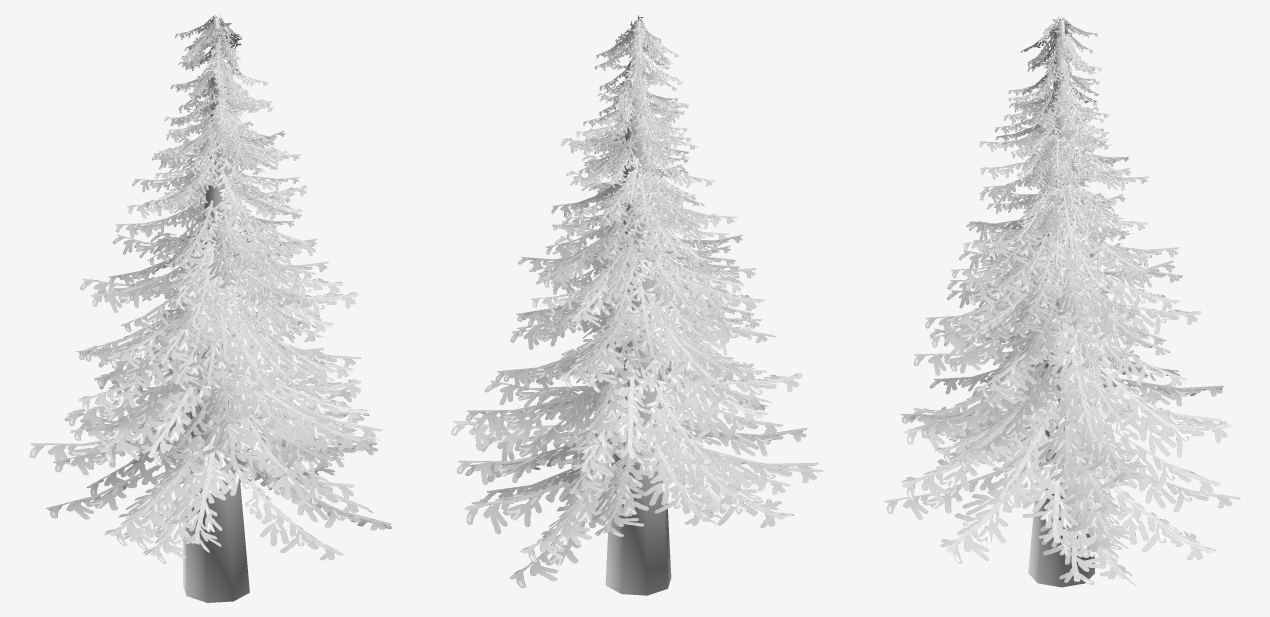
Rendered from Tree.fbx.
The picture shows the model from 3 angles, left to right: view 1: azimuth 30°, elevation 25°; view 2: azimuth 150°, elevation 25°; view 3: azimuth 270°, elevation 25°; orthographic projection. The views are drawn at different scales.
Parts seen in each view (by area): view 1: Tree; view 2: Tree; view 3: Tree.
Boxes of the visible parts, x1,y1,x2,y2 form: Tree: (29,14,392,602); Tree: (451,15,823,595); Tree: (884,17,1240,587).
Size of the model in its own units: 905 by 916 by 1438.
